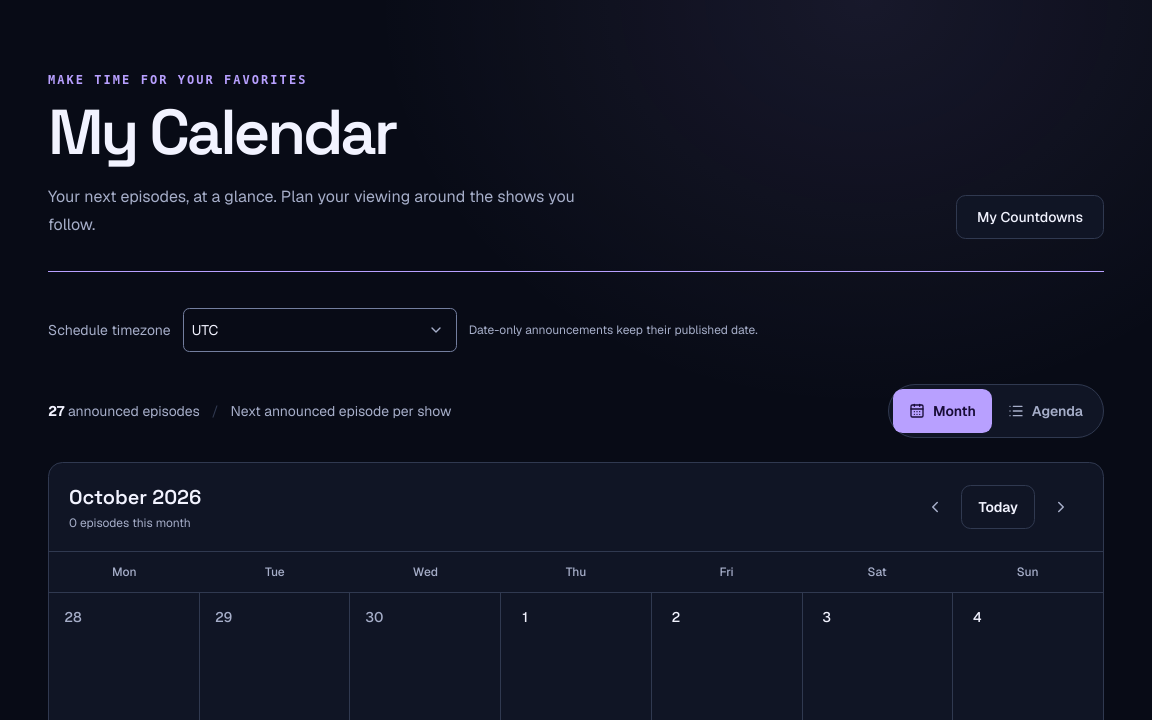
Test case: followed episode calendar › fetches every chunk including Simkl shows beyond the first 25
The width and height of the screenshot is (1152, 720).
Click the button "Agenda". click: (1045, 410)
box: 992,388 -> 1099,432
(page scrolled)
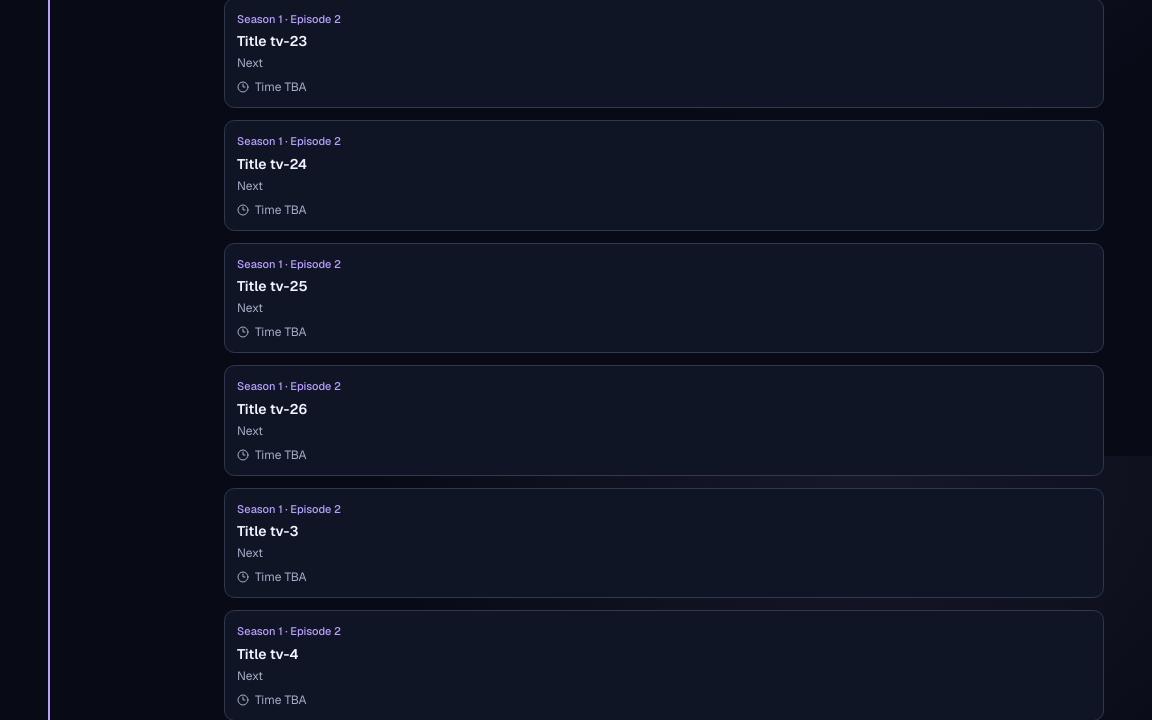
Now the heading named "Title tv-26: Next" is shown, box 237,398 -> 346,418
